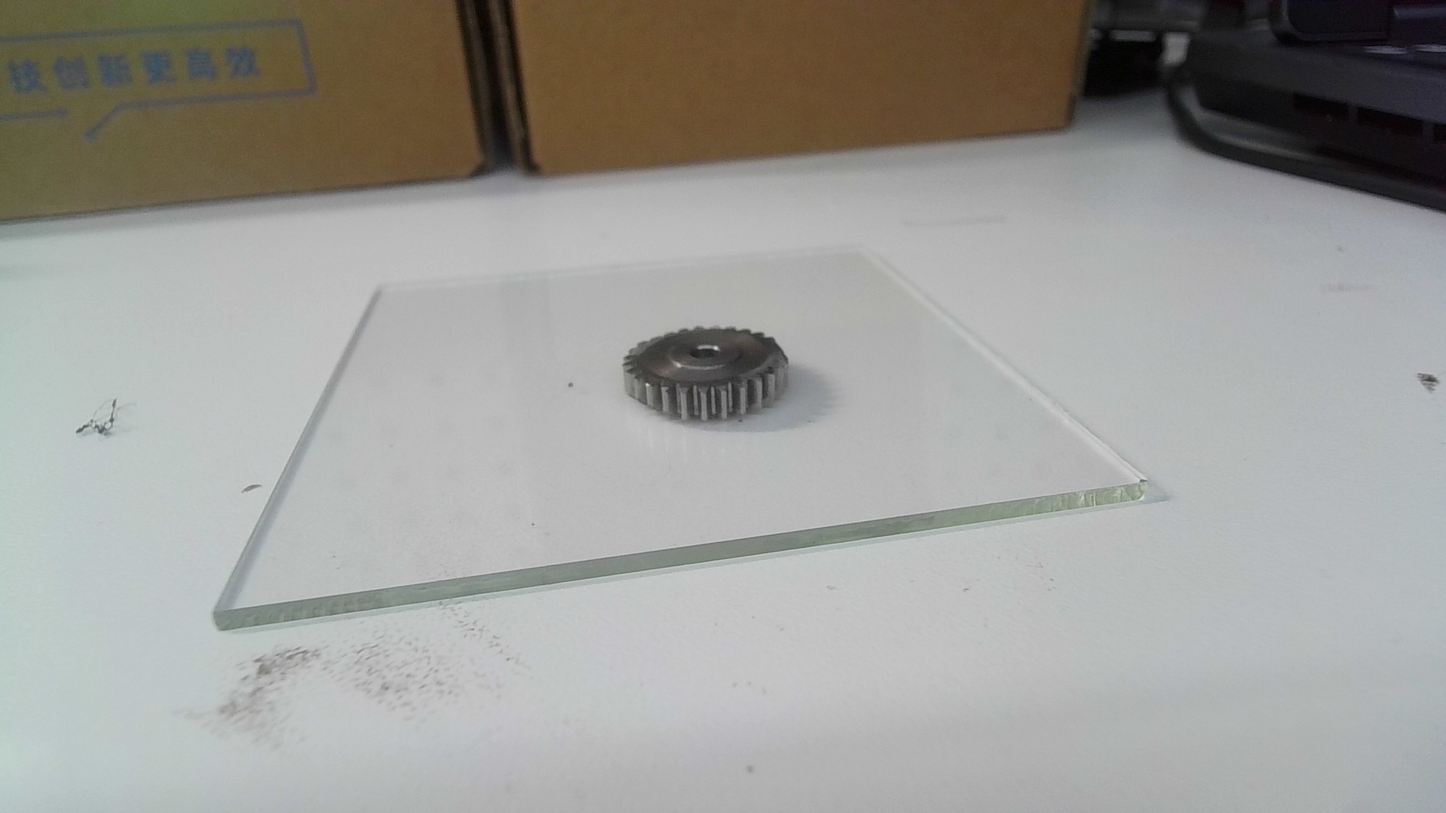gear: (620, 325, 793, 425)
